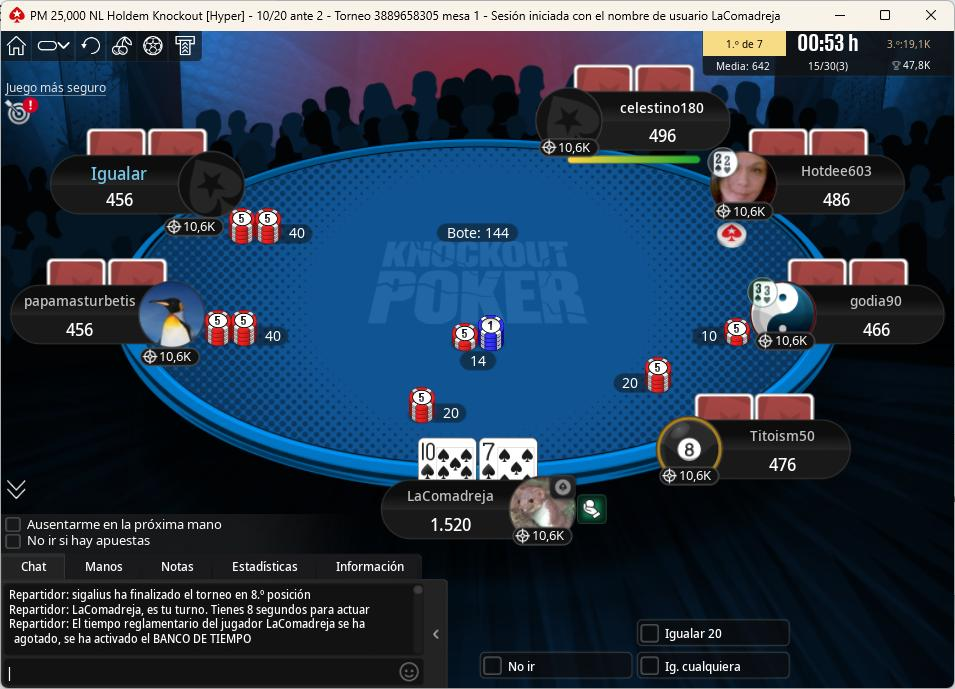Dealer: (713, 219, 753, 250)
HiddenCards: (693, 393, 822, 424), (84, 133, 218, 161), (575, 68, 704, 96), (42, 258, 170, 286), (785, 258, 911, 286), (749, 131, 871, 159)
Player: (747, 282, 950, 351), (706, 154, 911, 221), (650, 422, 851, 489), (12, 283, 210, 350), (545, 94, 737, 160), (56, 151, 250, 215)
PlayerBet: (200, 309, 299, 353), (229, 208, 322, 250), (608, 353, 687, 401), (690, 317, 760, 351)
PlayerChips: (764, 455, 807, 476), (860, 322, 901, 343), (643, 127, 689, 145), (60, 324, 104, 342), (102, 192, 144, 210), (817, 192, 859, 210)
Pot: (435, 225, 522, 245)
PreButtonCall: (638, 610, 790, 650)
PreButtonCallAny: (636, 653, 796, 684)
PreButtonFold: (474, 651, 638, 684)
PrincipalBet: (406, 386, 474, 425)
PrincipalCards: (416, 439, 545, 484)
PrincipalCards1: (414, 436, 478, 482)
PrincipalCards2: (480, 436, 542, 482)
PrincipalPlayer: (381, 477, 586, 552)
PrincipalPlayerChips: (423, 518, 484, 537)
SmallBigBlind: (255, 7, 331, 26)
TablePot: (439, 315, 539, 379)
